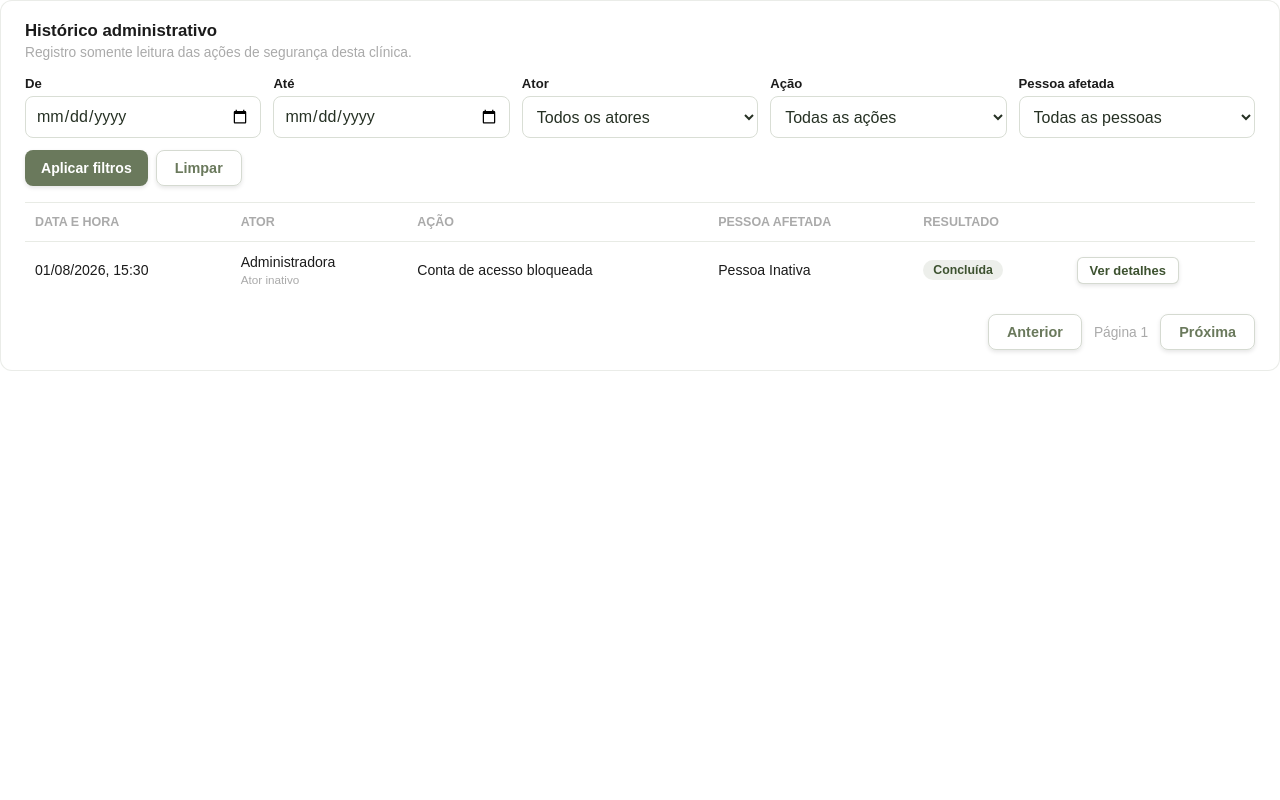
Test case: TeamAuditHistory › exibe sucesso, inativos e detalhes administrativos sanitizados
The width and height of the screenshot is (1280, 800).
Expected: the text "Ator inativo" is shown, [241,273,299,286]
Expected: the text "Concluída" is shown, [923,260,1003,280]
What coordinates should you click on to do the following:
click the button "Ver detalhes"
I would click on:
 (1128, 270)
Its box is [1076,256,1179,284].
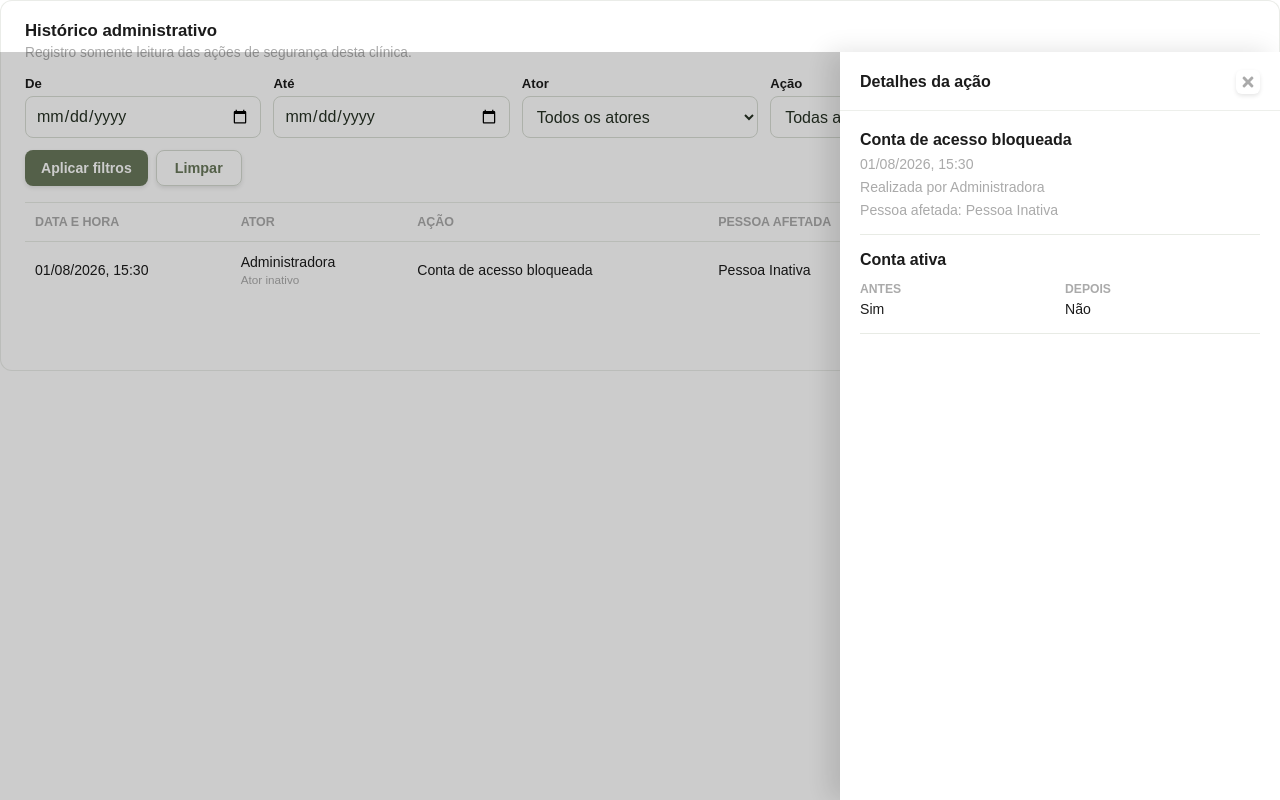
Expected: the dialog "Detalhes da ação" is shown, [840,52,1279,799]
Expected: the text "Conta ativa" is shown, [860,251,946,268]
Expected: the text "Sim" is shown, [860,301,884,317]
What coordinates should you click on to do the following:
click the button named "Fechar detalhes da auditoria"
I would click on:
 (1248, 82)
Its box is [1236,70,1260,94].
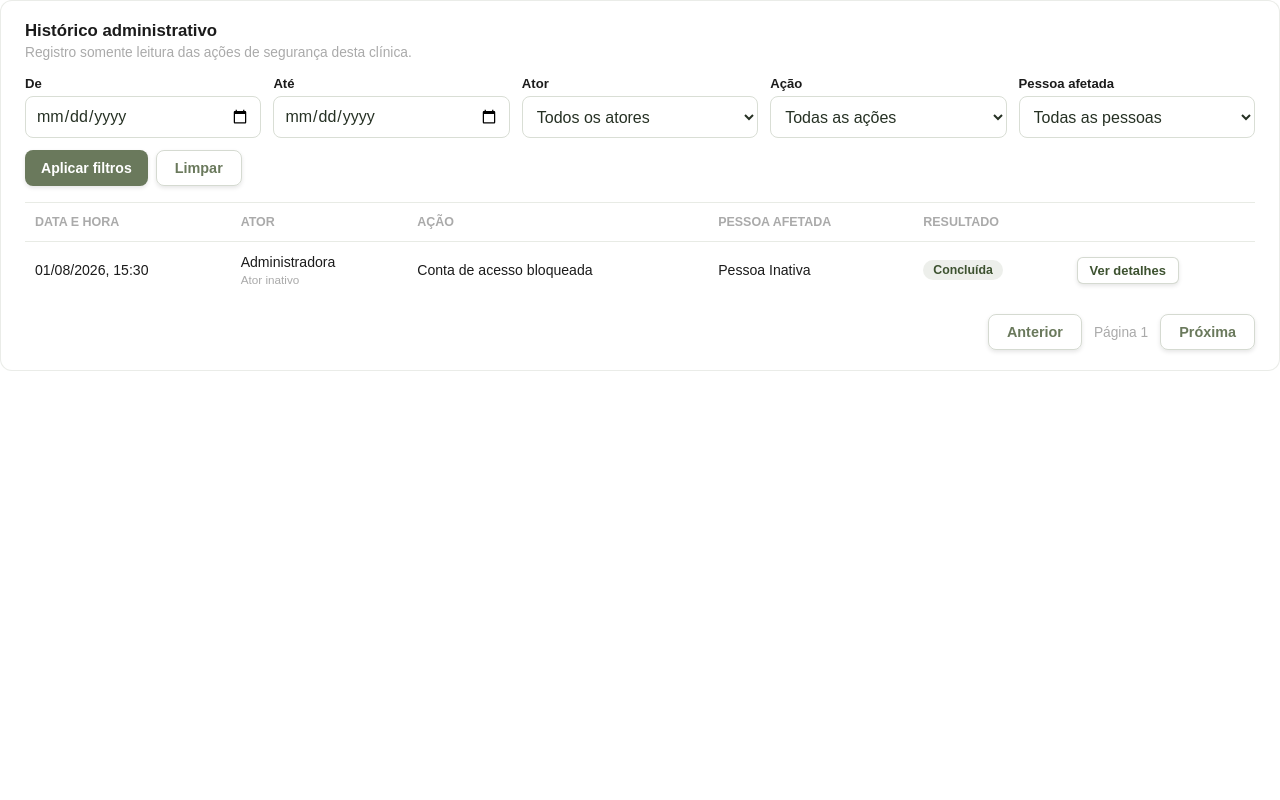
Expected: the heading "Detalhes da ação" is gone
